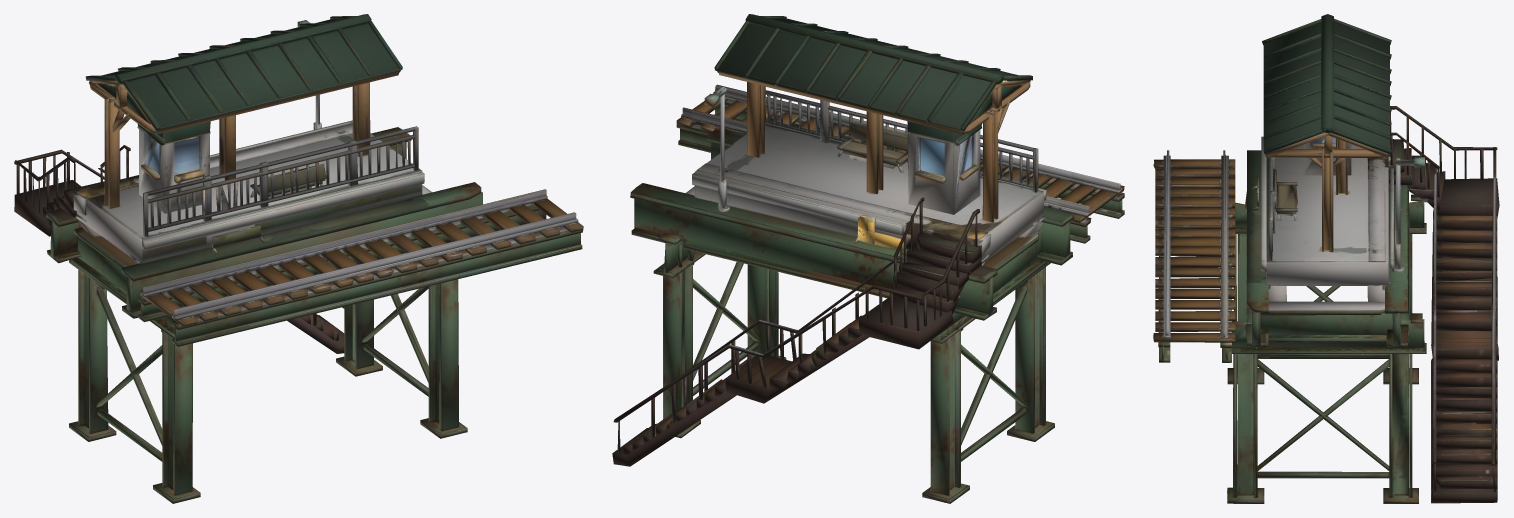
The model's file is el-station.glb.
3 renders of one model, left to right at view 1: azimuth 30°, elevation 25°; view 2: azimuth 150°, elevation 25°; view 3: azimuth 270°, elevation 25°, orthographic. The views are drawn at different scales.
Size of the model in its own units: 0.9546 by 0.8765 by 0.7681.
Materials: 1 (1 with a texture image).
